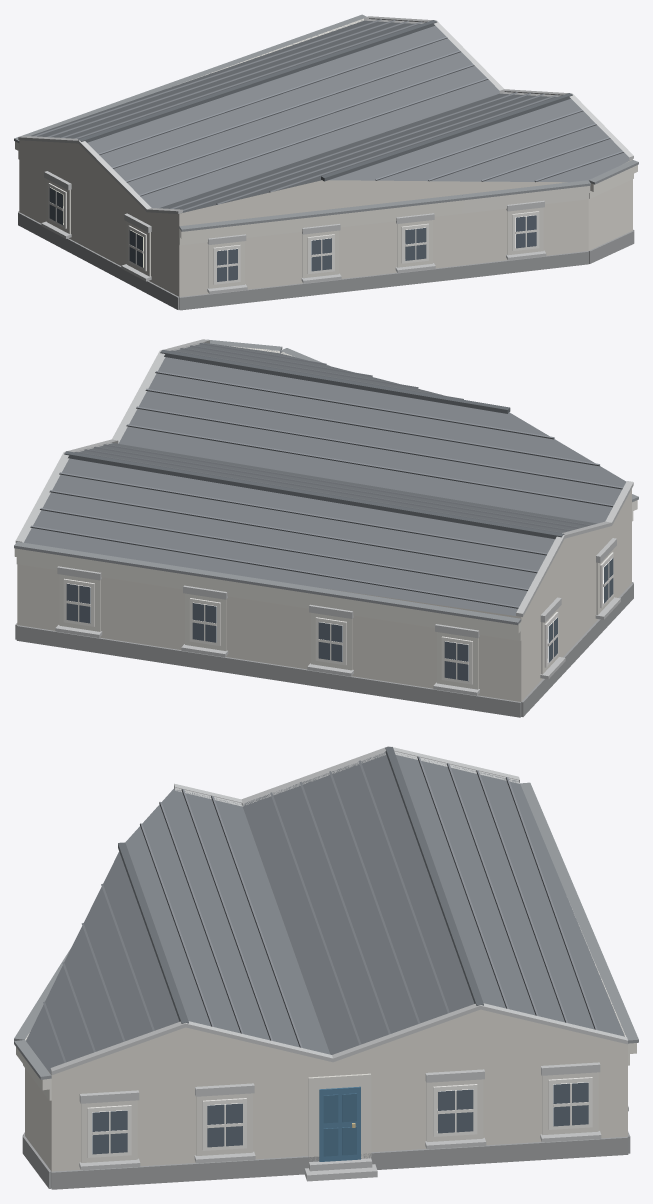
3 renders of one model, top to bottom at view 1: azimuth 30°, elevation 25°; view 2: azimuth 150°, elevation 25°; view 3: azimuth 270°, elevation 25°, orthographic. The views are drawn at different scales.
Parts seen in each view (by area): view 1: slate, harl_grey, slate_lt, string, plinth, stone_band, lead, slate_dk, frame, window_glass_009, window_glass_010, window_glass_007 (+3 smaller); view 2: slate, harl_grey, slate_lt, string, plinth, stone_band, slate_dk, lead, frame, window_glass_004, window_glass_001, window_glass_002 (+1 smaller); view 3: slate, harl_grey, stone_band, slate_lt, plinth, string, lead, slate_dk, frame, door_blue_p, door_blue, window_glass_011 (+3 smaller).
Part boxes in pixels (<box>): slate: <box>31,20,631,213</box>; harl_grey: <box>19,140,632,296</box>; slate_lt: <box>32,19,623,210</box>; string: <box>15,18,637,288</box>; plinth: <box>18,211,634,310</box>; stone_band: <box>18,16,633,294</box>; lead: <box>14,14,638,231</box>; slate_dk: <box>78,20,572,181</box>; frame: <box>48,183,539,284</box>; window_glass_009: <box>405,227,426,260</box>; window_glass_010: <box>515,215,536,248</box>; window_glass_007: <box>217,248,237,281</box>; slate: <box>24,343,626,616</box>; harl_grey: <box>17,489,631,701</box>; slate_lt: <box>30,343,623,608</box>; string: <box>14,346,637,689</box>; plinth: <box>15,582,633,717</box>; stone_band: <box>15,339,633,695</box>; slate_dk: <box>64,350,564,538</box>; lead: <box>14,339,638,625</box>; frame: <box>63,552,613,684</box>; window_glass_004: <box>444,641,468,681</box>; window_glass_001: <box>66,583,90,623</box>; window_glass_002: <box>192,602,216,642</box>; slate: <box>26,752,624,1073</box>; harl_grey: <box>25,1009,627,1171</box>; stone_band: <box>50,746,628,1181</box>; slate_lt: <box>43,756,597,1062</box>; plinth: <box>22,1131,630,1189</box>; string: <box>16,909,636,1162</box>; lead: <box>14,782,638,1079</box>; slate_dk: <box>118,747,483,1023</box>; frame: <box>87,1077,592,1157</box>; door_blue_p: <box>323,1093,356,1156</box>; door_blue: <box>319,1086,360,1161</box>; window_glass_011: <box>92,1110,127,1154</box>.
Size of the model in its own units: 16.68 by 4.15 by 14.9.
